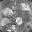people: (1, 17, 13, 27), (1, 8, 14, 16), (15, 16, 23, 25)
